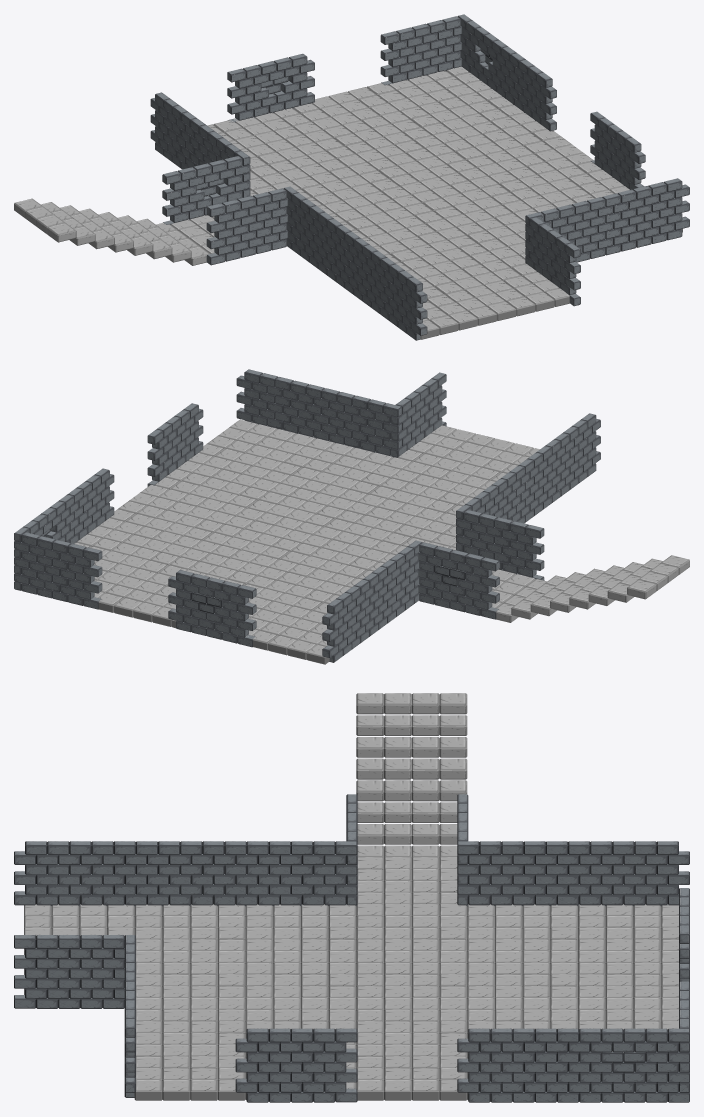
The model's file is M_PezzoCentraleLivello1.fbx.
3 views of the same model, one above another, from view 1: azimuth 30°, elevation 25°; view 2: azimuth 150°, elevation 25°; view 3: azimuth 270°, elevation 25° (orthographic). The views are drawn at different scales.
Parts seen in each view (by area): view 1: PezzoCentraleLivello1; view 2: PezzoCentraleLivello1; view 3: PezzoCentraleLivello1.
Part boxes in pixels (x1,y1,x2,y2): PezzoCentraleLivello1: (14,14,689,340); PezzoCentraleLivello1: (14,369,689,664); PezzoCentraleLivello1: (14,693,689,1102).
Bounding box in the file's own units: 70.4 × 8 × 61.
